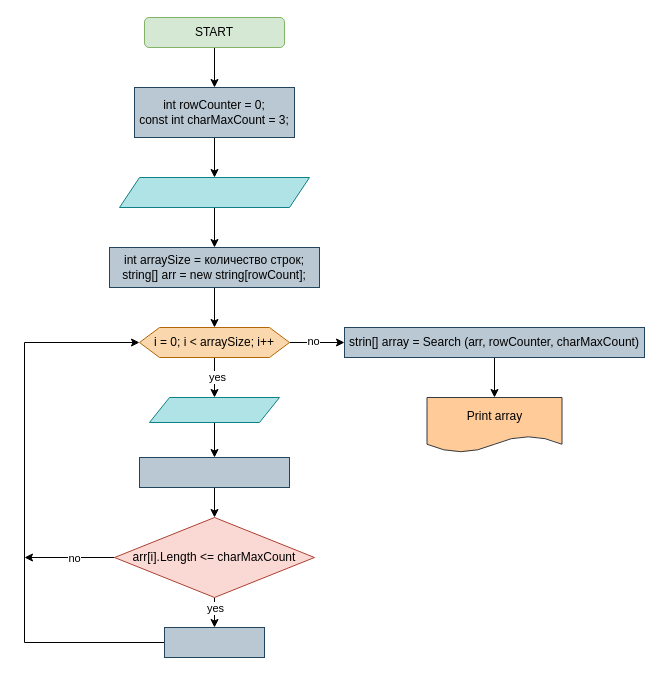
The diagram is 662 pixels wide and 675 high, and some of its shapes have lost their labels. The shapes that lost their labels are listed below. From the top down, each one's centre as x and y in pixels, then its label:
point 214,192: Введите количество строк
point 214,409: Введите текст:
point 214,472: arr[i] = введённый текст
point 214,642: rowCounter++;
